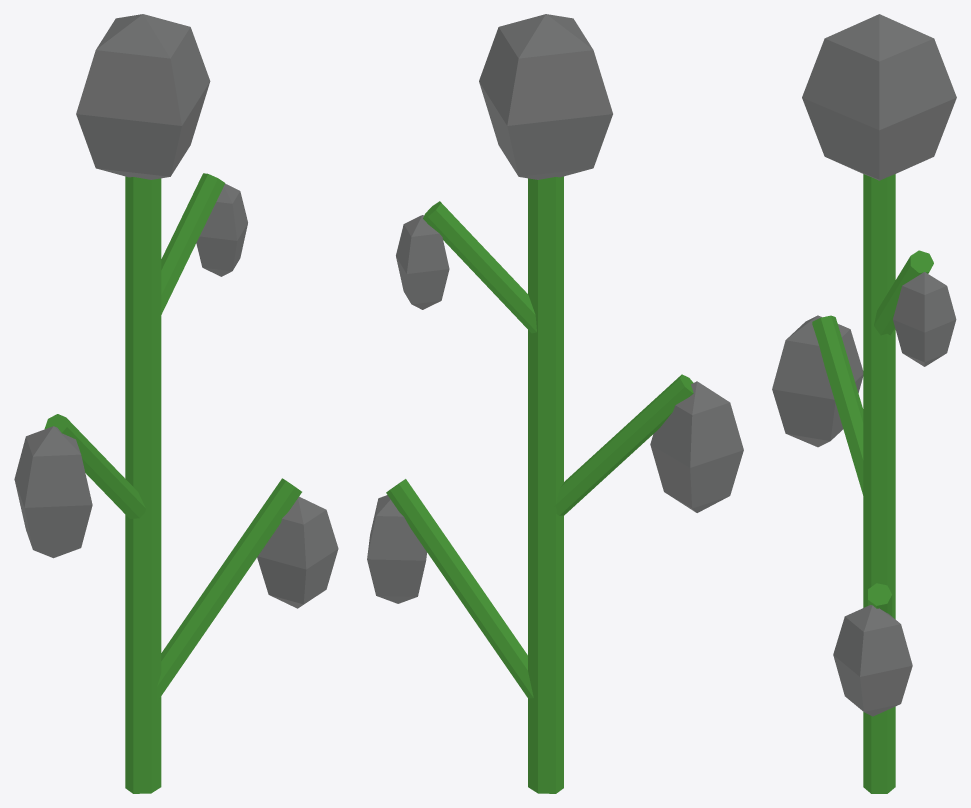
Rendered from Pebblepod.glb.
3 renders of one model, left to right at view 1: azimuth 30°, elevation 25°; view 2: azimuth 150°, elevation 25°; view 3: azimuth 270°, elevation 25°, orthographic.
Parts seen in each view (by area): view 1: Cylinder, Pod1, Pod3, Pod4, Cylinder.002, Pod2, Cylinder.003, Cylinder.001; view 2: Cylinder, Pod1, Pod3, Cylinder.002, Pod4, Cylinder.001, Cylinder.003, Pod2; view 3: Pod1, Cylinder, Pod4, Pod3, Pod2, Cylinder.001, Cylinder.003, Cylinder.002.
Part boxes in pixels (x1,y1,x2,y2): Cylinder: (125, 176, 161, 793); Pod1: (76, 14, 210, 179); Pod3: (14, 426, 92, 558); Pod4: (257, 496, 338, 608); Cylinder.002: (157, 478, 301, 701); Pod2: (196, 183, 247, 276); Cylinder.003: (161, 173, 225, 314); Cylinder.001: (44, 414, 145, 518); Cylinder: (528, 176, 563, 793); Pod1: (479, 14, 612, 179); Pod3: (650, 381, 743, 512); Cylinder.002: (386, 479, 533, 698); Pod4: (367, 495, 426, 603); Cylinder.001: (554, 374, 693, 515); Cylinder.003: (423, 201, 536, 333); Pod2: (396, 215, 449, 309); Pod1: (802, 14, 956, 180); Cylinder: (863, 174, 895, 793); Pod4: (833, 605, 912, 716); Pod3: (772, 315, 863, 447); Pod2: (893, 272, 956, 366); Cylinder.001: (812, 315, 863, 495); Cylinder.003: (874, 250, 933, 335); Cylinder.002: (868, 583, 892, 616).
Size of the model in its own units: 1.23 by 2.64 by 0.5724.
Materials: 2 (2 with a texture image).
